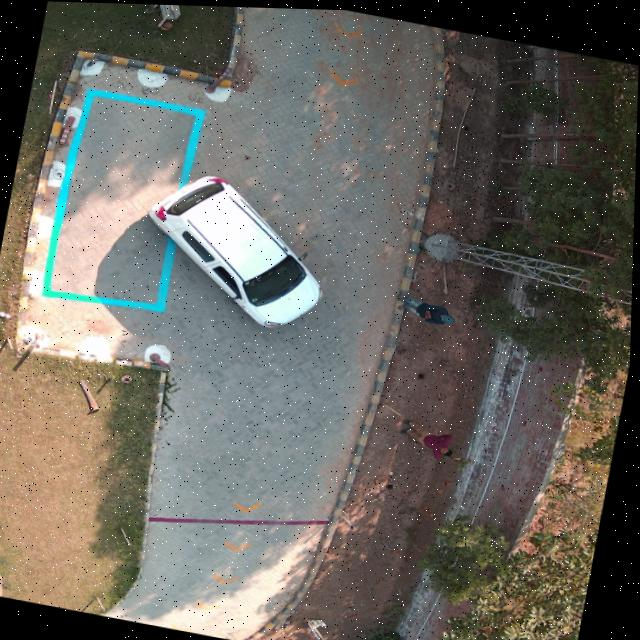car: (148, 174, 323, 326)
